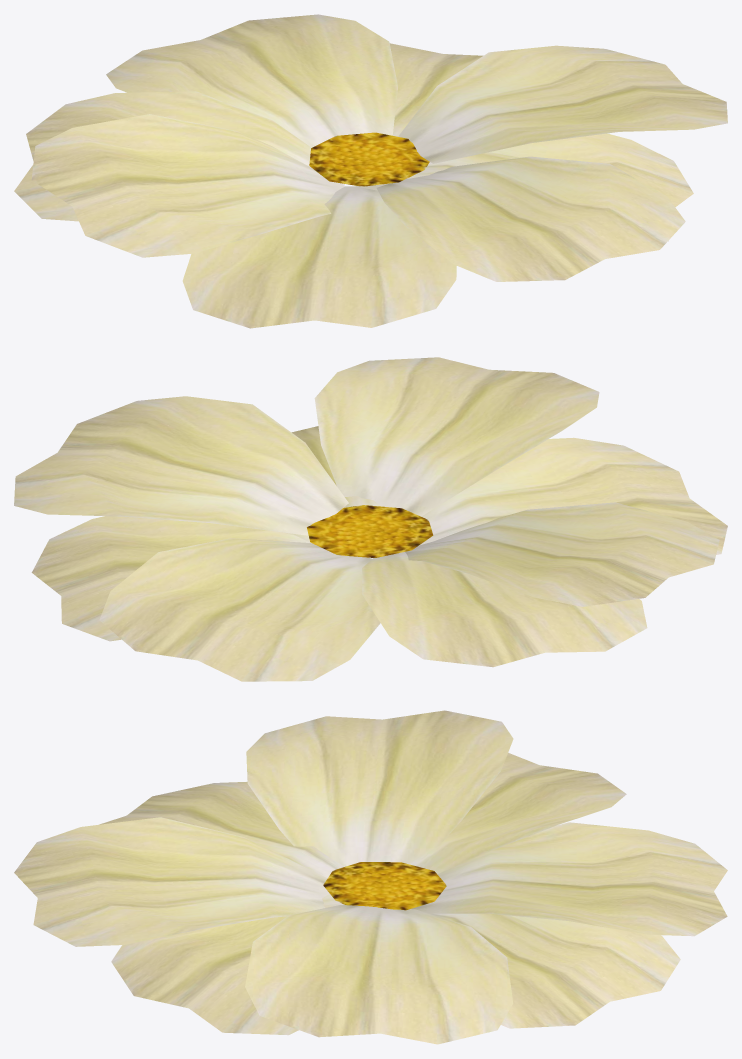
File: flower-merged.glb
3 views of the same model, one above another, from view 1: azimuth 30°, elevation 25°; view 2: azimuth 150°, elevation 25°; view 3: azimuth 270°, elevation 25° (orthographic). The views are drawn at different scales.
Parts seen in each view (by area): view 1: petal; view 2: petal; view 3: petal.
Boxes of the visible parts, x1,y1,x2,y2 form: petal: (14, 14, 727, 328); petal: (14, 357, 727, 681); petal: (14, 710, 727, 1044).
Size of the model in its own units: 0.0877 by 0.00958 by 0.0874.
Materials: 1 (1 with a texture image).
